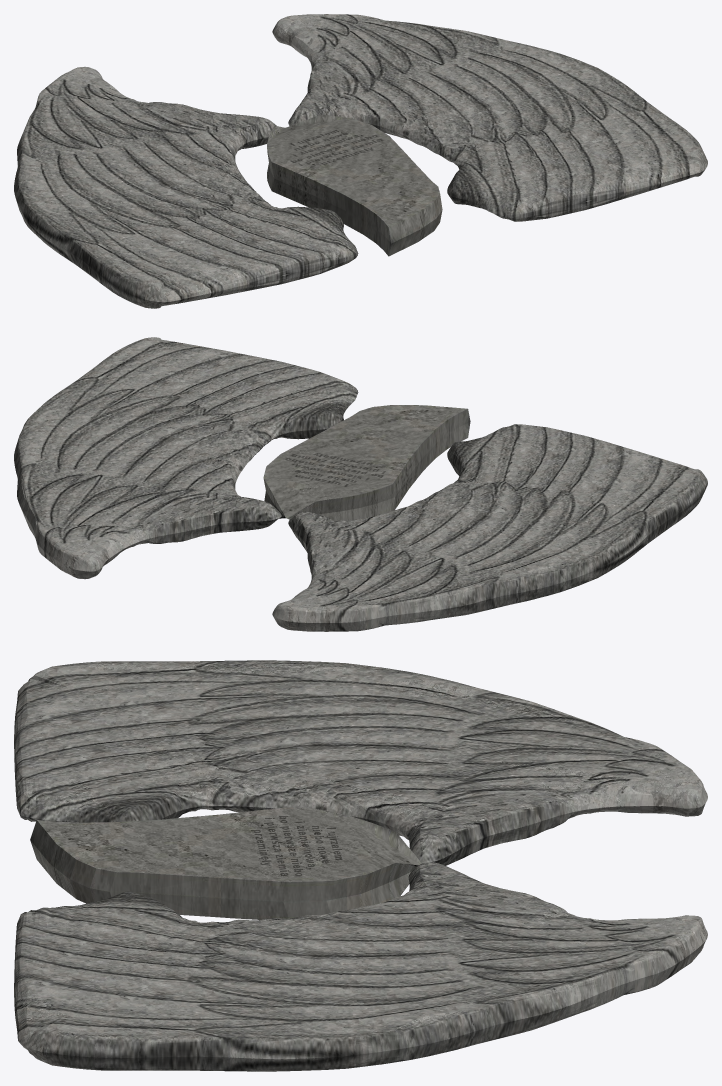
The model's file is ZonaMemorial_LOD0.FBX.
3 renders of one model, top to bottom at view 1: azimuth 30°, elevation 25°; view 2: azimuth 150°, elevation 25°; view 3: azimuth 270°, elevation 25°, orthographic. The views are drawn at different scales.
Parts seen in each view (by area): view 1: LeftWingFront, StoneFront; view 2: LeftWingFront, StoneFront; view 3: LeftWingFront, StoneFront.
Boxes of the visible parts, <box> form: LeftWingFront: <box>14,14,707,308</box>; StoneFront: <box>267,114,442,256</box>; LeftWingFront: <box>14,337,707,631</box>; StoneFront: <box>263,405,470,521</box>; LeftWingFront: <box>14,660,707,1071</box>; StoneFront: <box>30,806,421,919</box>.
Bounding box in the file's own units: 296 × 14.12 × 224.
Materials: 3 (3 with a texture image).
